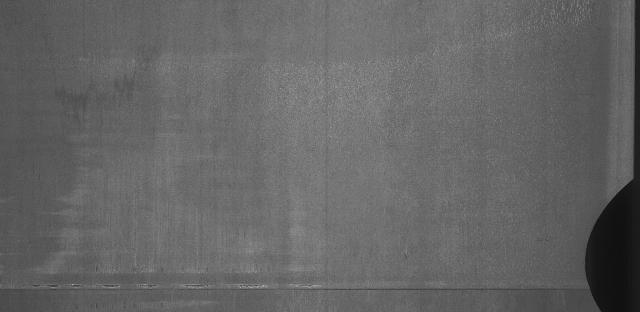welding_line: (2, 277, 607, 299)
